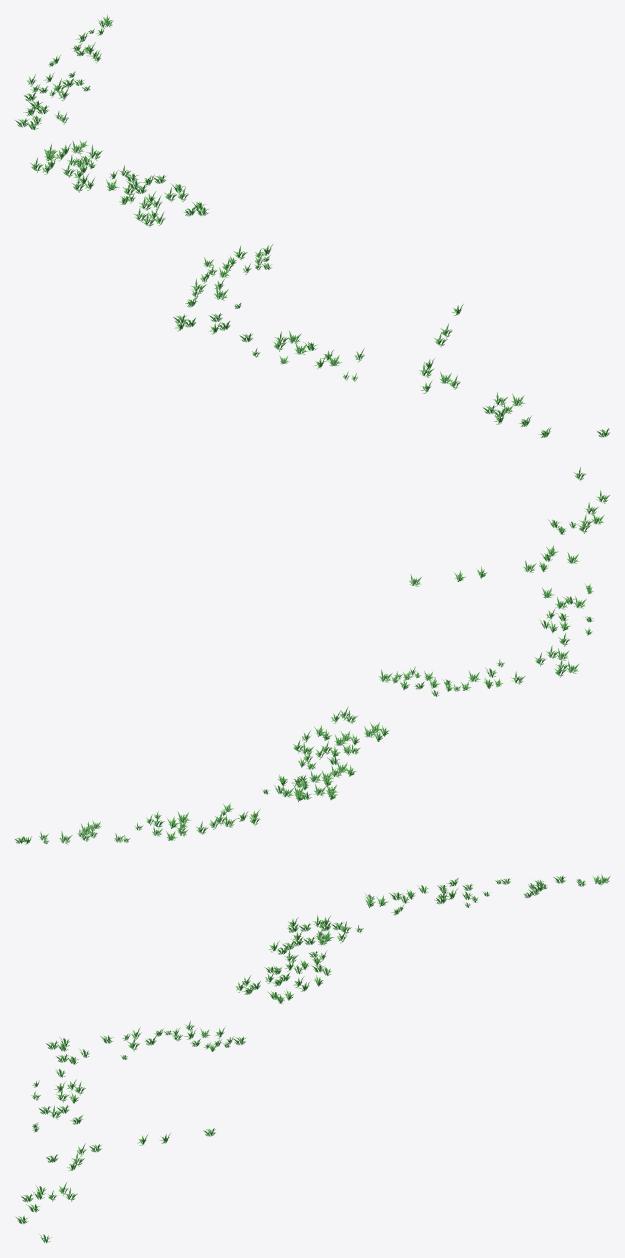
File: Area_07_22.fbx
3 renders of one model, top to bottom at view 1: azimuth 30°, elevation 25°; view 2: azimuth 150°, elevation 25°; view 3: azimuth 330°, elevation 25°, orthographic. The views are drawn at different scales.
Parts seen in each view (by area): view 1: Area_07_22; view 2: Area_07_22; view 3: Area_07_22.
Boxes of the visible parts, x1=… form: Area_07_22: x1=15, y1=14, x2=609, y2=437; Area_07_22: x1=15, y1=467, x2=609, y2=844; Area_07_22: x1=16, y1=873, x2=610, y2=1243.
Size of the model in its own units: 2253 by 120 by 7917.
